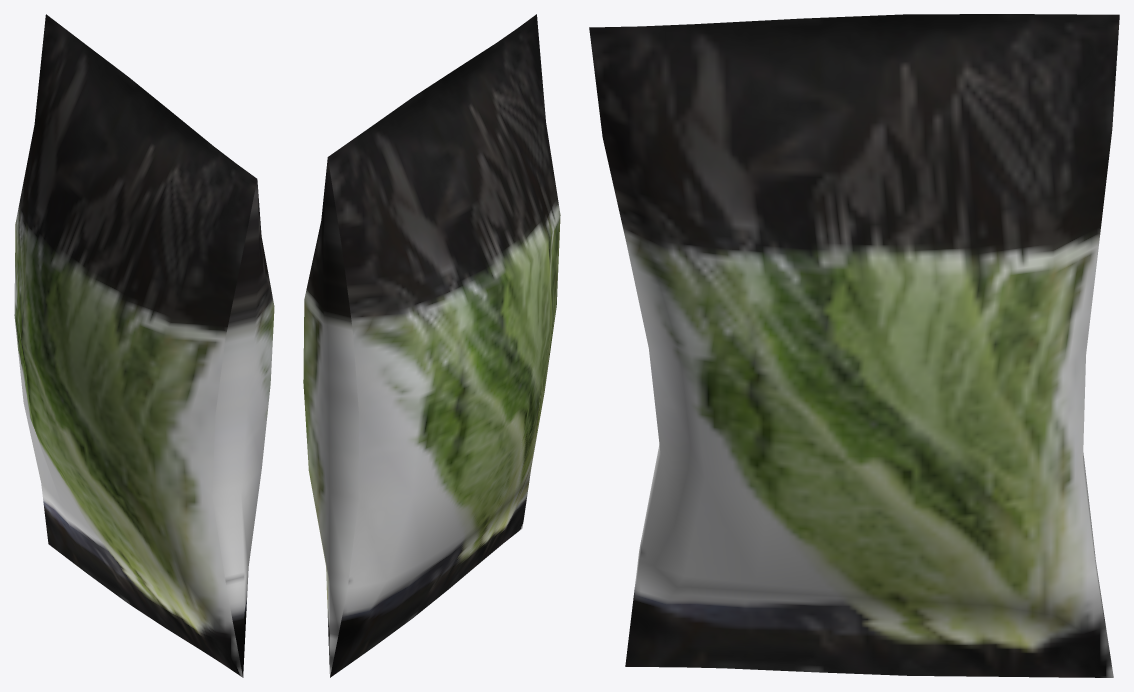
The model's file is cabbage_packing.fbx.
3 views of the same model, side by side, from view 1: azimuth 30°, elevation 25°; view 2: azimuth 150°, elevation 25°; view 3: azimuth 270°, elevation 25° (orthographic). The views are drawn at different scales.
Parts seen in each view (by area): view 1: cabbage_packing; view 2: cabbage_packing; view 3: cabbage_packing.
Boxes of the visible parts, box(x1,y1,x2,y2) form: cabbage_packing: box(14, 14, 274, 677); cabbage_packing: box(303, 14, 560, 677); cabbage_packing: box(589, 14, 1119, 677).
Size of the model in its own units: 7.58 by 22.03 by 15.98.
1 material, 1 textured.
